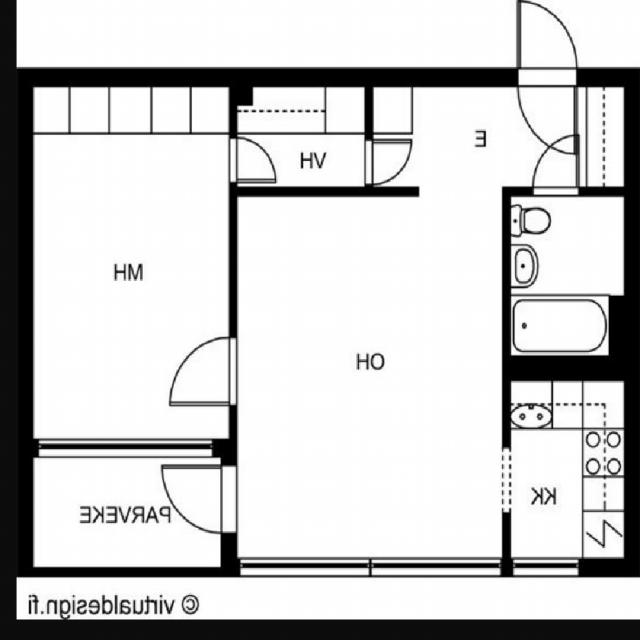door: (161, 466, 237, 534), (518, 67, 576, 152), (518, 2, 576, 86), (170, 338, 237, 406), (533, 135, 578, 196), (364, 139, 413, 185), (228, 139, 275, 182)
